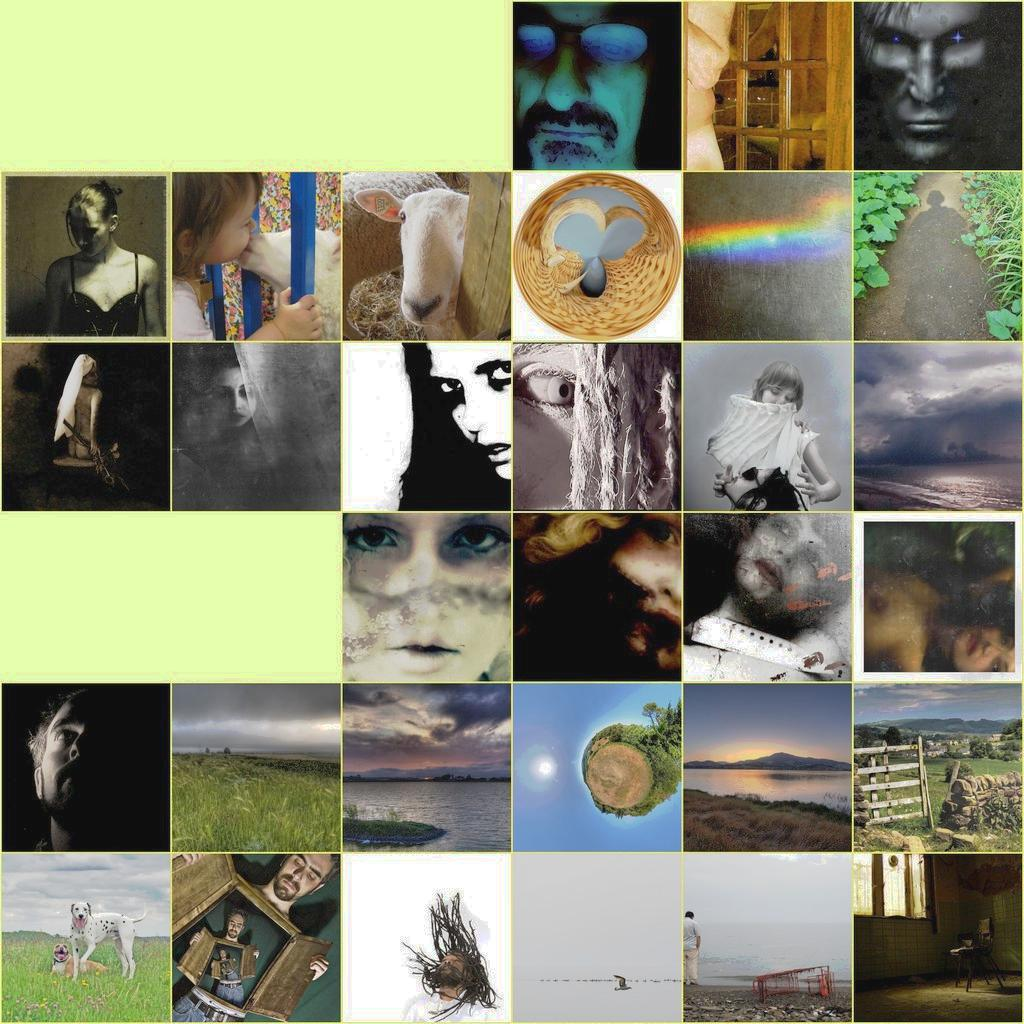Sheep: (352, 190, 471, 328)
